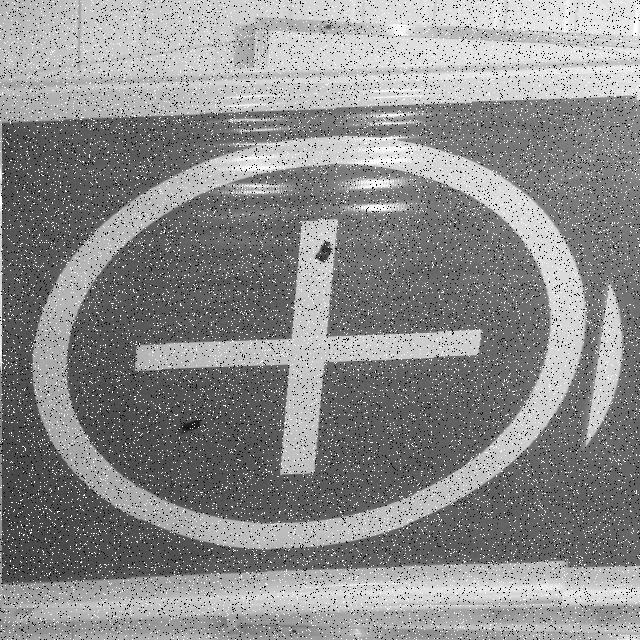circulo-com-sinal-positivo: (2, 83, 640, 609)
